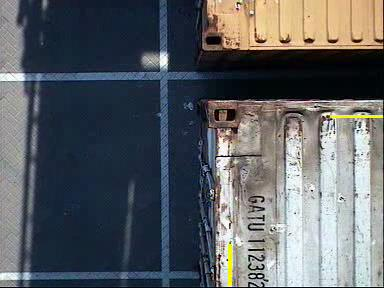groundmarker_2: (188, 119, 233, 180)
